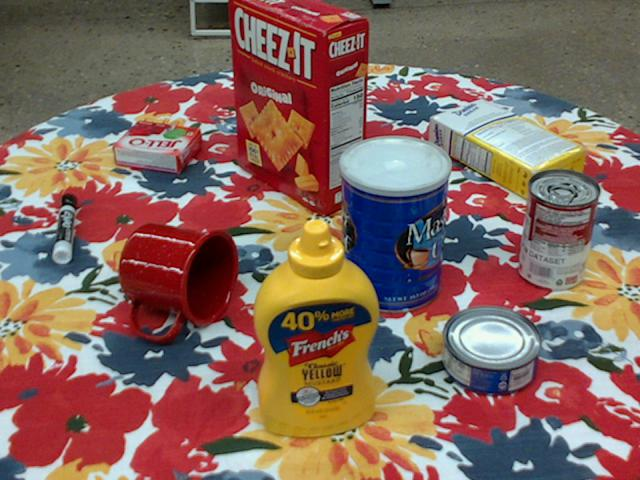cracker_box: (230, 0, 369, 212)
gelatin_box: (112, 121, 202, 174)
large_marker: (52, 193, 76, 263)
master_chef_can: (339, 135, 451, 315)
mug: (117, 223, 238, 341)
mustard_bottle: (252, 218, 378, 437)
potted_meat_can: (261, 45, 339, 120)
sugar_box: (430, 97, 588, 202)
tomato_soup_can: (520, 168, 600, 290)
tuna_fish_can: (440, 307, 540, 397)
